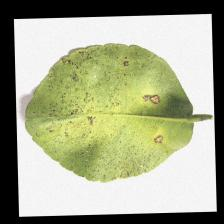canker: (52, 52, 169, 150)
